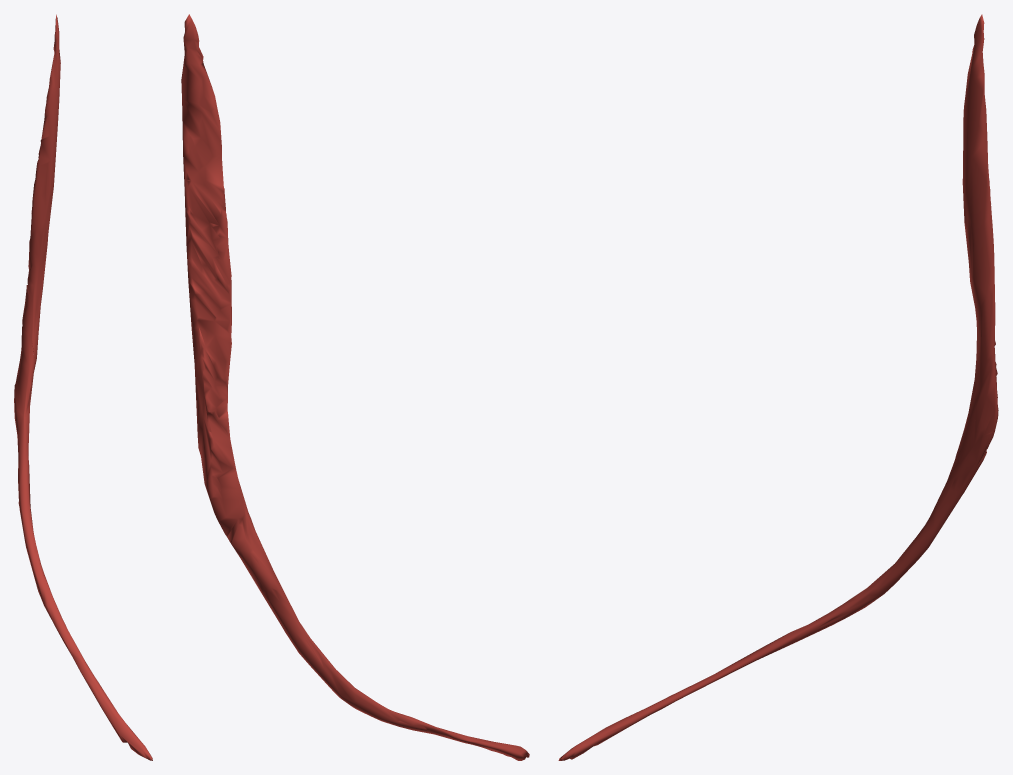
File: musculos-extensor-hallucis-longus-l.glb
The picture shows the model from 3 angles, left to right: view 1: azimuth 30°, elevation 25°; view 2: azimuth 150°, elevation 25°; view 3: azimuth 270°, elevation 25°; orthographic projection. The views are drawn at different scales.
Parts seen in each view (by area): view 1: Extensor hallucis longus.l; view 2: Extensor hallucis longus.l; view 3: Extensor hallucis longus.l.
Boxes of the visible parts, x1,y1,x2,y2 form: Extensor hallucis longus.l: [14, 14, 152, 760]; Extensor hallucis longus.l: [181, 14, 529, 760]; Extensor hallucis longus.l: [558, 14, 998, 760].
Bounding box in the file's own units: 0.0427 × 0.2805 × 0.1417.
